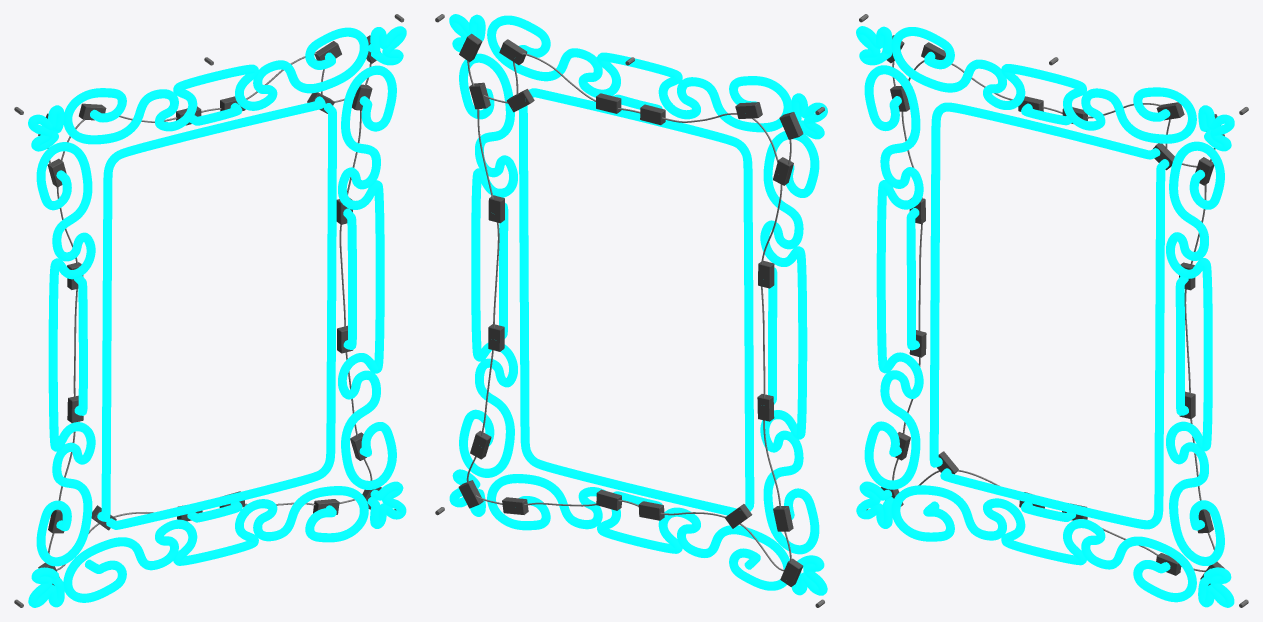
File: blueNeonFrame.glb
3 views of the same model, side by side, from view 1: azimuth 30°, elevation 25°; view 2: azimuth 150°, elevation 25°; view 3: azimuth 330°, elevation 25° (orthographic).
Parts seen in each view (by area): view 1: Glass, Cubes, Cable; view 2: Glass, Cubes, Cable; view 3: Glass, Cubes, Cable.
Part boxes in pixels (x1,y1,x2,y2): Glass: (28, 26, 406, 607); Cubes: (38, 35, 381, 585); Cable: (47, 53, 372, 570); Glass: (449, 14, 827, 595); Cubes: (458, 33, 803, 586); Cable: (466, 53, 791, 571); Glass: (856, 26, 1234, 607); Cubes: (881, 35, 1224, 585); Cable: (892, 60, 1216, 571).
Bounding box in the file's own units: 0.4816 × 0.6124 × 0.0292.
